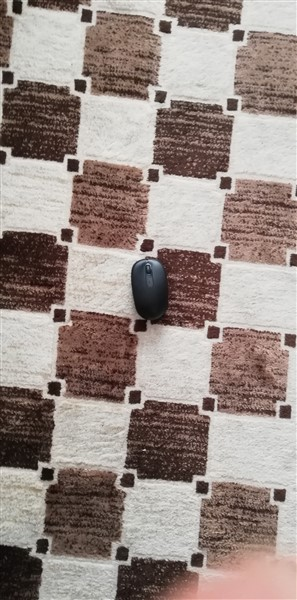mouse: (127, 253, 177, 326)
